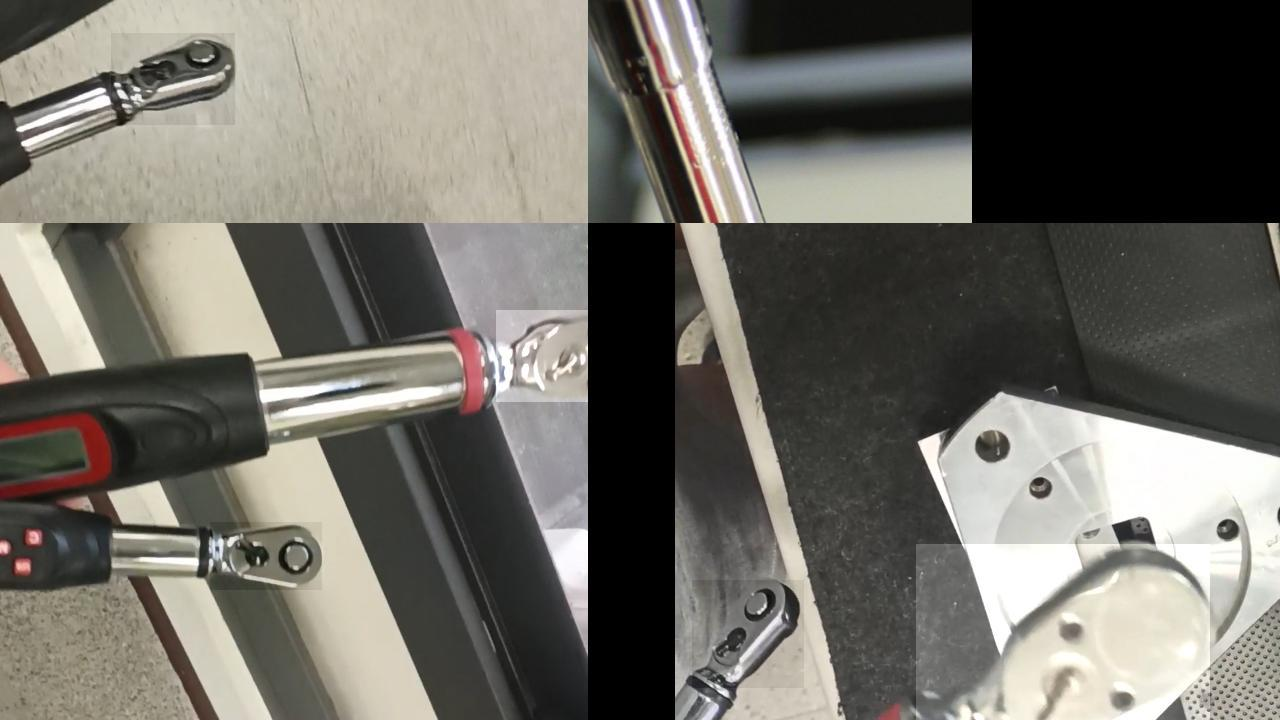Tool: (916, 543, 1210, 720), (692, 579, 804, 687), (111, 32, 235, 124), (496, 309, 588, 401), (210, 521, 322, 589)
